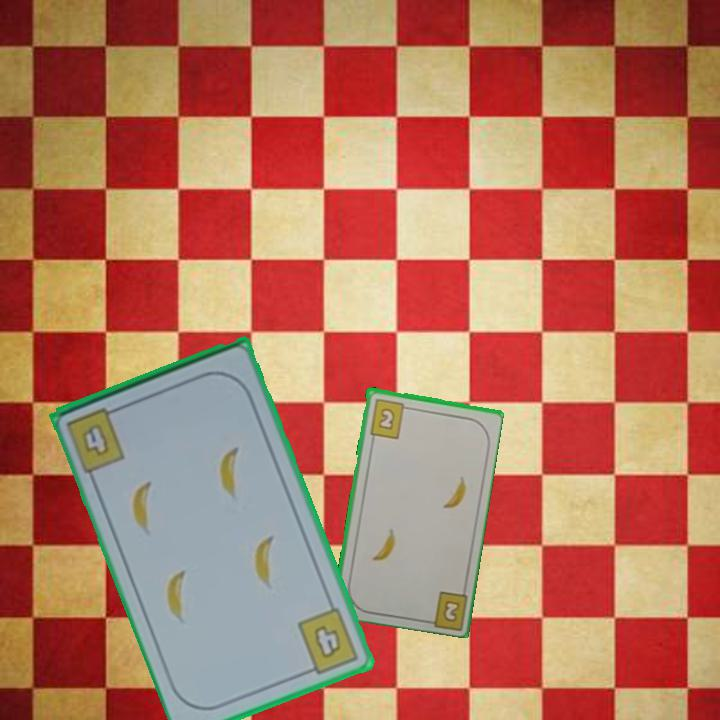2b: (366, 395, 413, 441), (439, 596, 462, 625)
4b: (294, 604, 362, 679), (63, 403, 129, 474)
